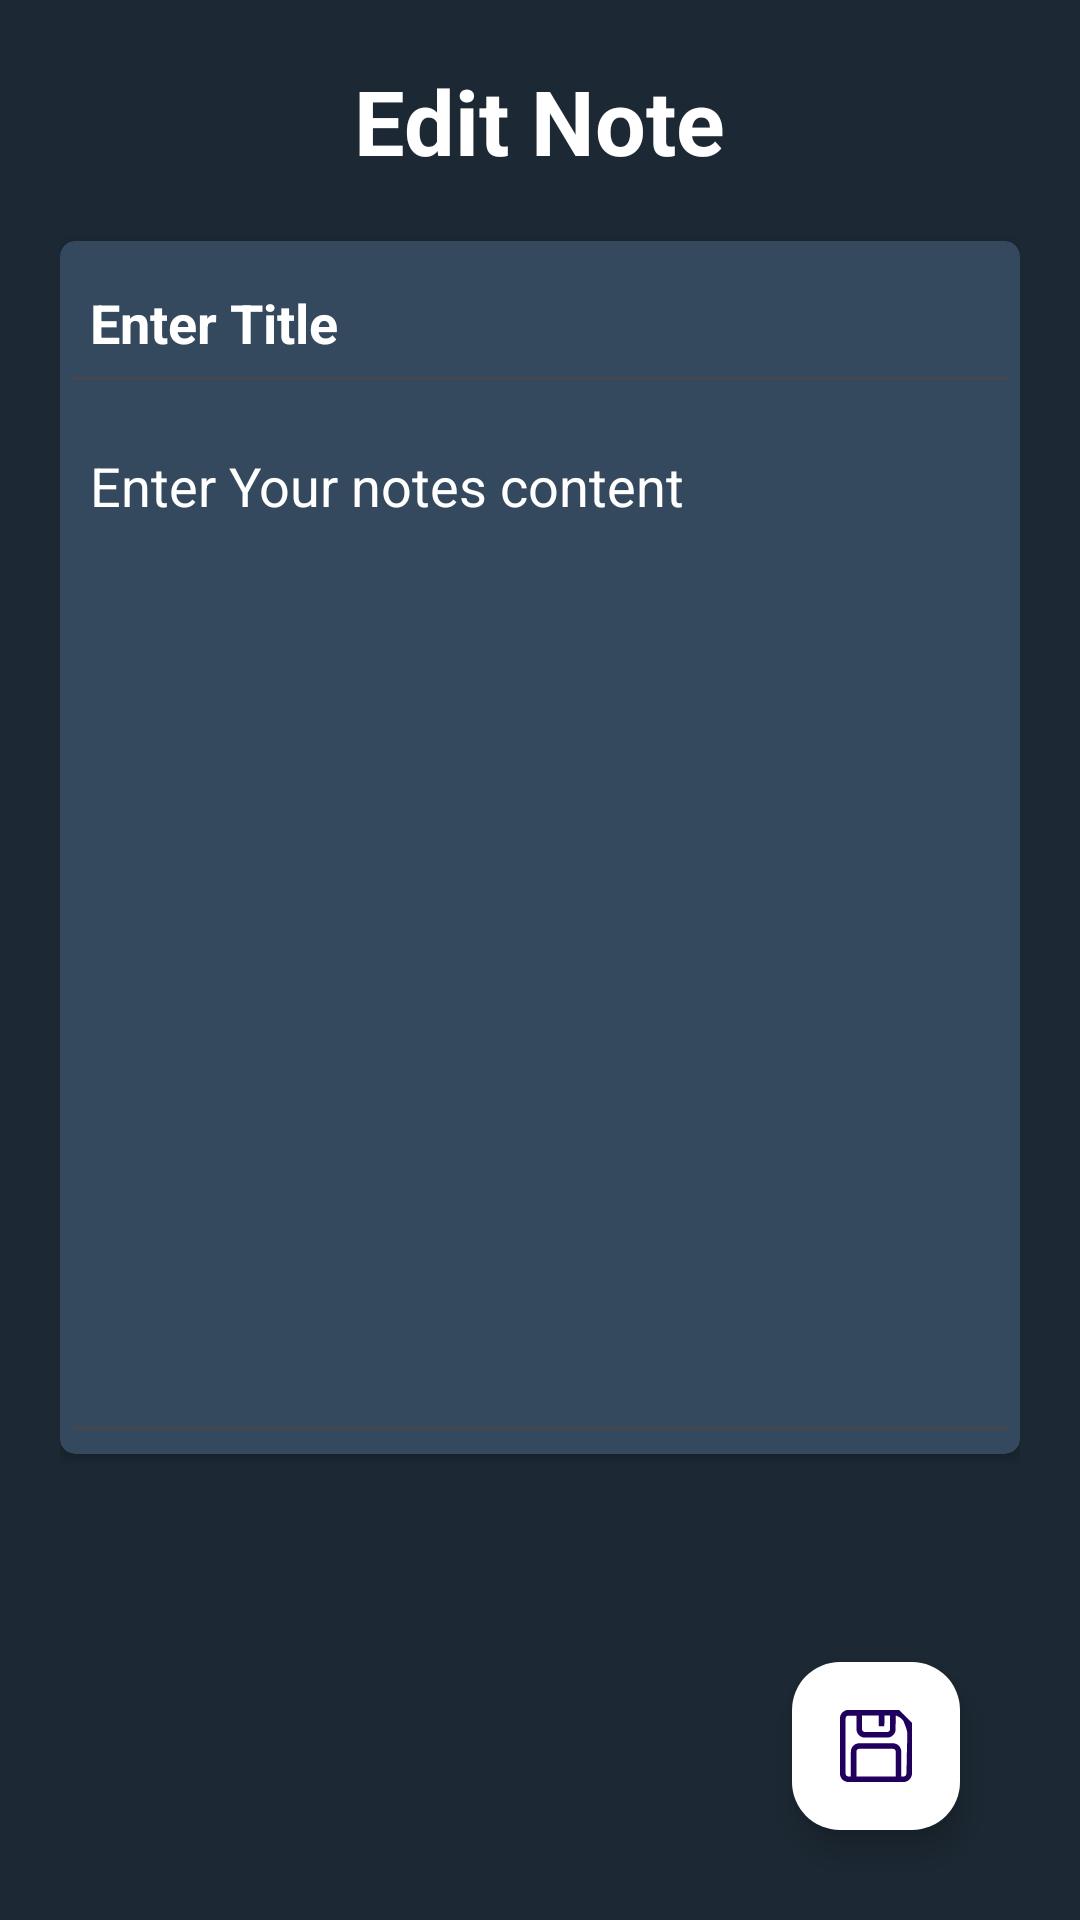

Point at icon controls on the screen. Image size 1080 × 1920, points as (x=x, y=y).
save: (x=876, y=1746)
